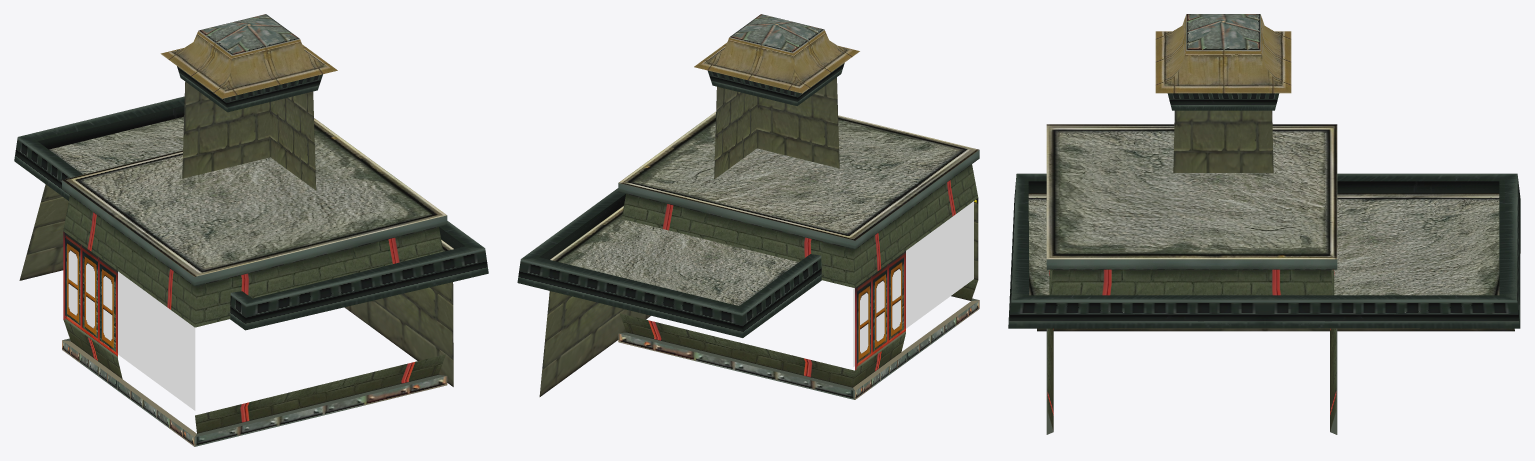
The model's file is l_residenceleft_hdtex.glb.
3 views of the same model, side by side, from view 1: azimuth 30°, elevation 25°; view 2: azimuth 150°, elevation 25°; view 3: azimuth 270°, elevation 25° (orthographic). The views are drawn at different scales.
Visible parts, largest first — view 1: residence_left, Litwin_res; view 2: residence_left, Litwin_res; view 3: residence_left.
Boxes of the visible parts, <box> form: residence_left: <box>14,14,488,446</box>; Litwin_res: <box>68,250,195,410</box>; residence_left: <box>517,14,979,399</box>; Litwin_res: <box>853,201,973,366</box>; residence_left: <box>1008,14,1520,434</box>.
Size of the model in its own units: 21.27 by 24.25 by 31.13.
7 materials, 7 textured.
